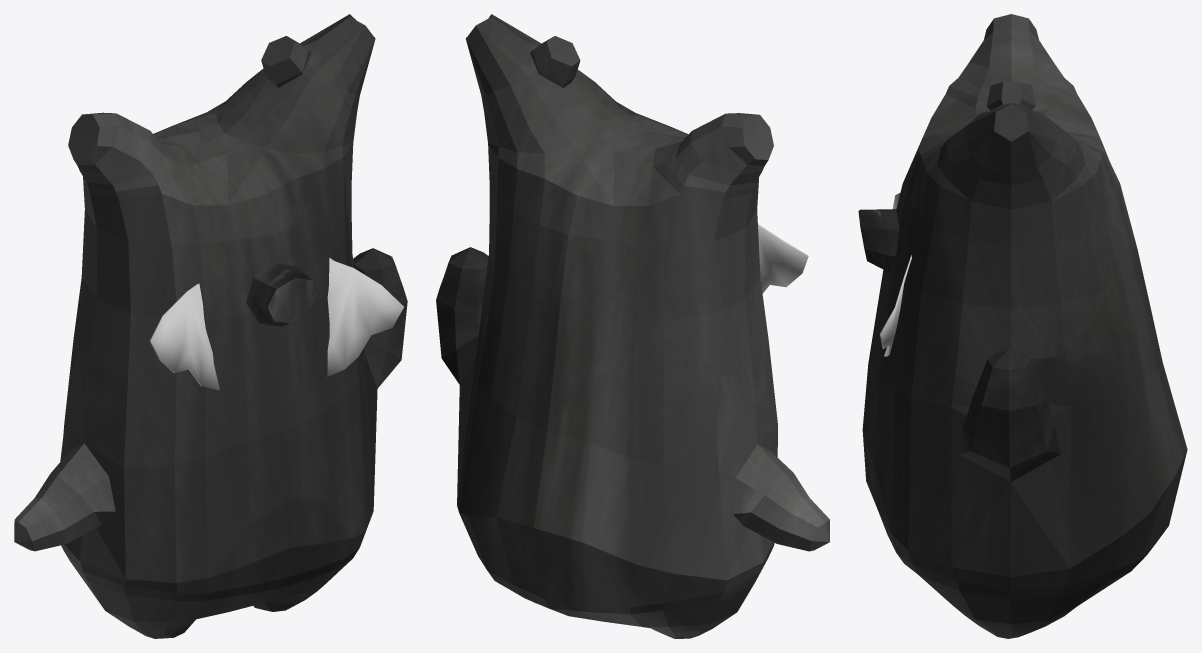
File: frame_0000.obj
3 views of the same model, side by side, from view 1: azimuth 30°, elevation 25°; view 2: azimuth 150°, elevation 25°; view 3: azimuth 270°, elevation 25° (orthographic).
Parts seen in each view (by area): view 1: korok, leaf, nose; view 2: korok, leaf; view 3: korok, nose, leaf.
Boxes of the visible parts, x1=… form: korok: x1=14, y1=14, x2=407, y2=638; leaf: x1=150, y1=258, x2=403, y2=390; nose: x1=246, y1=263, x2=317, y2=326; korok: x1=436, y1=14, x2=829, y2=638; leaf: x1=758, y1=224, x2=808, y2=293; korok: x1=862, y1=14, x2=1187, y2=638; nose: x1=858, y1=209, x2=899, y2=272; leaf: x1=879, y1=193, x2=911, y2=356.
Size of the model in its own units: 1.6 by 2.25 by 1.18.
